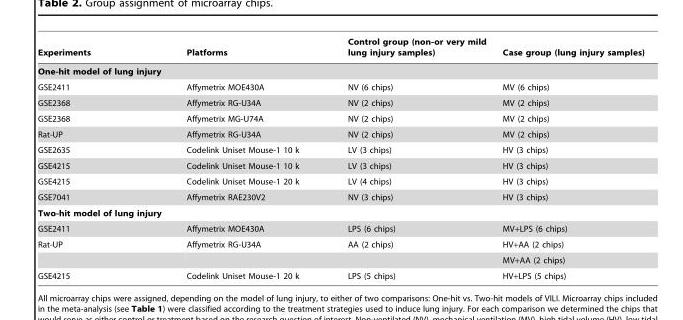table: (37, 37, 643, 280)
table column: (137, 37, 322, 280), (322, 37, 493, 280), (493, 37, 643, 280), (37, 37, 137, 280)
table column header: (37, 37, 643, 61)
table projected row header: (37, 61, 643, 79), (37, 204, 643, 219)
table row: (37, 37, 643, 61), (37, 61, 643, 79), (37, 94, 643, 110), (37, 110, 643, 126), (37, 126, 643, 142), (37, 157, 643, 173), (37, 173, 643, 189), (37, 219, 643, 235), (37, 235, 643, 251), (37, 251, 643, 267), (37, 79, 643, 94), (37, 142, 643, 157), (37, 189, 643, 204), (37, 204, 643, 219), (37, 267, 643, 280)
table spanning cell: (37, 235, 137, 267)
